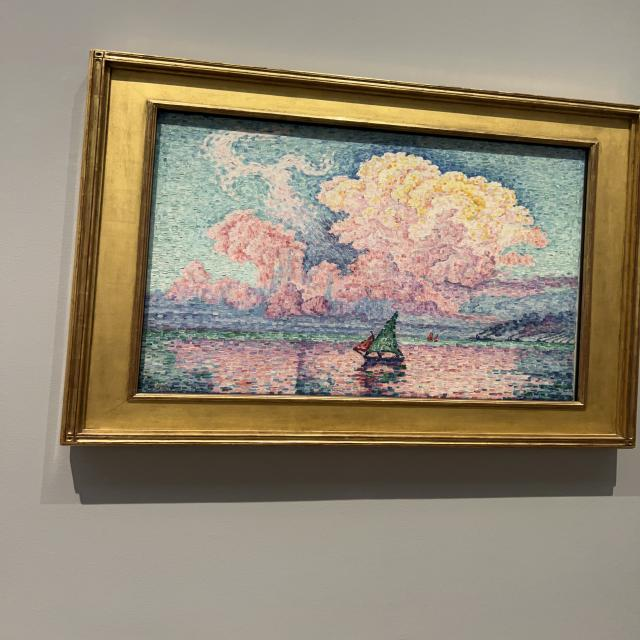sunrise: (142, 125, 584, 397)
